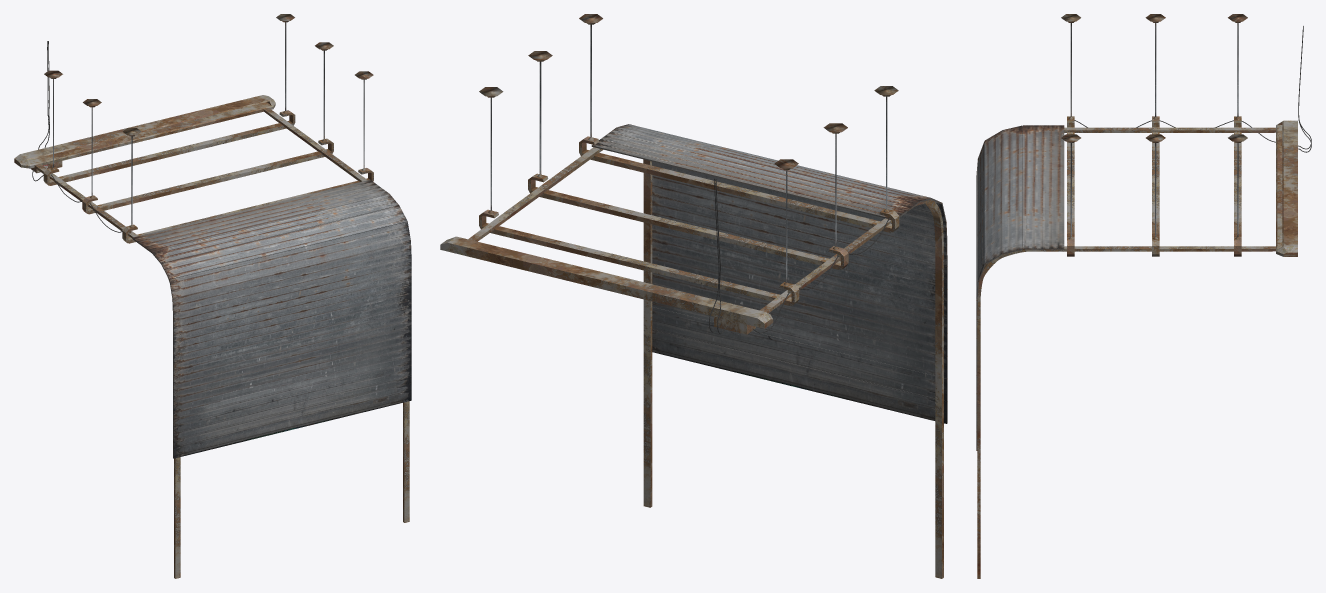
File: garaser.fbx
The picture shows the model from 3 angles, left to right: view 1: azimuth 30°, elevation 25°; view 2: azimuth 150°, elevation 25°; view 3: azimuth 270°, elevation 25°; orthographic projection. The views are drawn at different scales.
Parts seen in each view (by area): view 1: Frame_0, DoorSection5_5, DoorSection6_6, DoorSection4_4, DoorSection13_13, DoorSection7_7, DoorSection14_14, DoorSection8_8, DoorSection12_12, DoorSection9_9, DoorSection11_11, DoorSection10_10 (+3 smaller); view 2: Frame_0, DoorSection14_14, DoorSection13_13, DoorSection10_10, DoorSection8_8, DoorSection7_7, DoorSection11_11, DoorSection9_9, DoorSection12_12, DoorSection1_1, DoorSection2_2, DoorSection3_3 (+1 smaller); view 3: Frame_0, DoorSection1_1, DoorSection3_3, DoorSection2_2, DoorSection4_4, DoorSection5_5.
Boxes of the visible parts, left/top/right/bottom form: Frame_0: left=14, top=14, right=409, bottom=578; DoorSection5_5: left=169, top=221, right=410, bottom=298; DoorSection6_6: left=172, top=240, right=411, bottom=316; DoorSection4_4: left=161, top=205, right=407, bottom=279; DoorSection13_13: left=173, top=365, right=411, bottom=440; DoorSection7_7: left=173, top=259, right=411, bottom=334; DoorSection14_14: left=173, top=383, right=411, bottom=458; DoorSection8_8: left=173, top=277, right=411, bottom=352; DoorSection12_12: left=173, top=347, right=411, bottom=422; DoorSection9_9: left=173, top=294, right=411, bottom=369; DoorSection11_11: left=173, top=330, right=411, bottom=405; DoorSection10_10: left=173, top=312, right=411, bottom=387; Frame_0: left=440, top=14, right=943, bottom=578; DoorSection14_14: left=652, top=329, right=947, bottom=423; DoorSection13_13: left=652, top=307, right=947, bottom=401; DoorSection10_10: left=652, top=240, right=947, bottom=333; DoorSection8_8: left=652, top=194, right=947, bottom=288; DoorSection7_7: left=652, top=175, right=947, bottom=266; DoorSection11_11: left=652, top=262, right=947, bottom=355; DoorSection9_9: left=652, top=224, right=947, bottom=311; DoorSection12_12: left=652, top=301, right=947, bottom=378; DoorSection1_1: left=591, top=136, right=907, bottom=218; DoorSection2_2: left=604, top=127, right=919, bottom=211; DoorSection3_3: left=617, top=124, right=931, bottom=202; Frame_0: left=977, top=14, right=1311, bottom=578; DoorSection1_1: left=1043, top=125, right=1064, bottom=249; DoorSection3_3: left=1002, top=125, right=1022, bottom=254; DoorSection2_2: left=1023, top=125, right=1043, bottom=249; DoorSection4_4: left=984, top=130, right=1002, bottom=264; DoorSection5_5: left=978, top=141, right=985, bottom=281.
Size of the model in its own units: 436 by 686 by 469.
1 material, 1 textured.
